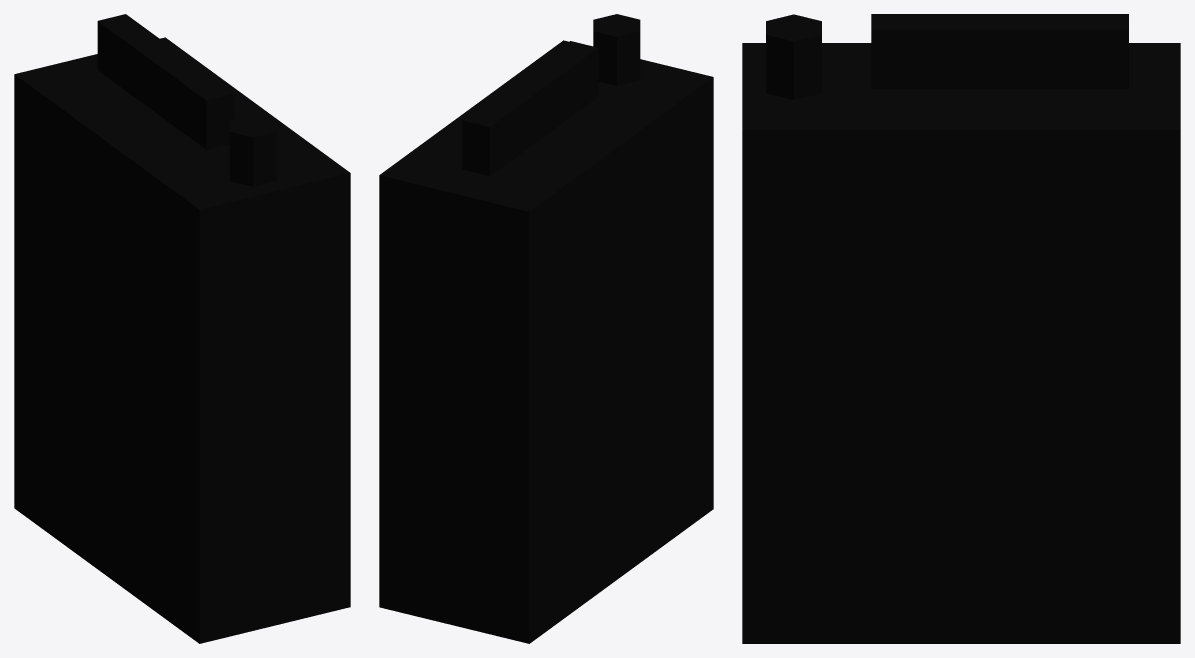
Rendered from SM_jerry_can.fbx.
3 views of the same model, side by side, from view 1: azimuth 30°, elevation 25°; view 2: azimuth 150°, elevation 25°; view 3: azimuth 270°, elevation 25° (orthographic). The views are drawn at different scales.
Parts seen in each view (by area): view 1: jerry_can; view 2: jerry_can; view 3: jerry_can.
Boxes of the visible parts, bbox=[...] form: jerry_can: bbox=[14, 14, 350, 643]; jerry_can: bbox=[379, 14, 713, 643]; jerry_can: bbox=[742, 14, 1180, 643].
Size of the model in its own units: 0.16 by 0.495 by 0.34.
